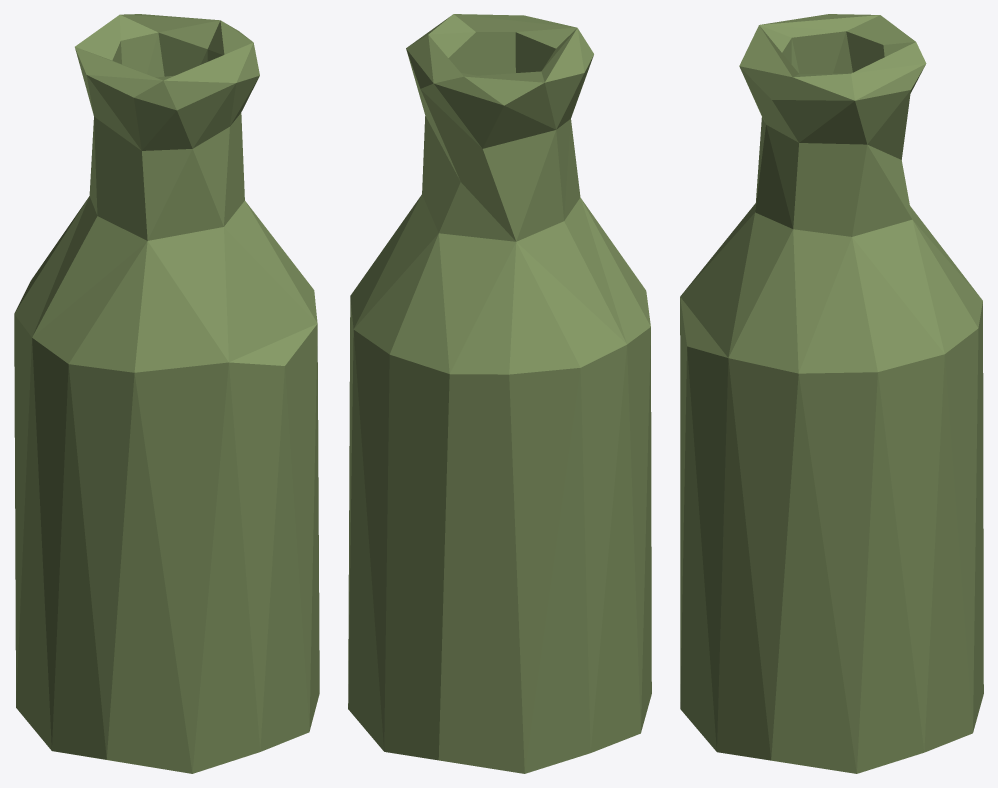
Rendered from bottle.fbx.
The picture shows the model from 3 angles, left to right: view 1: azimuth 30°, elevation 25°; view 2: azimuth 150°, elevation 25°; view 3: azimuth 270°, elevation 25°; orthographic projection.
Parts seen in each view (by area): view 1: bottle; view 2: bottle; view 3: bottle.
Boxes of the visible parts, x1=… form: bottle: x1=14, y1=14, x2=319, y2=773; bottle: x1=348, y1=14, x2=651, y2=773; bottle: x1=680, y1=14, x2=983, y2=773.
Size of the model in its own units: 49.8 by 122 by 50.2.
